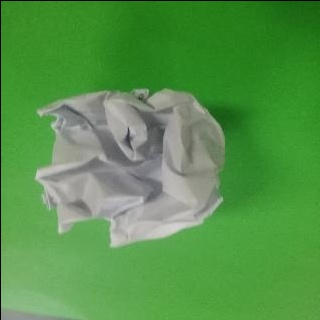8/可回收垃圾/纸: (34, 87, 226, 248)
